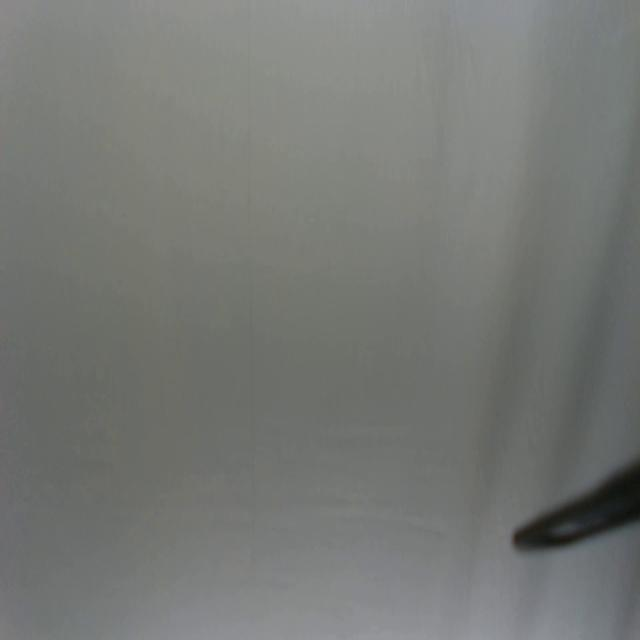crease: (246, 0, 259, 590)
